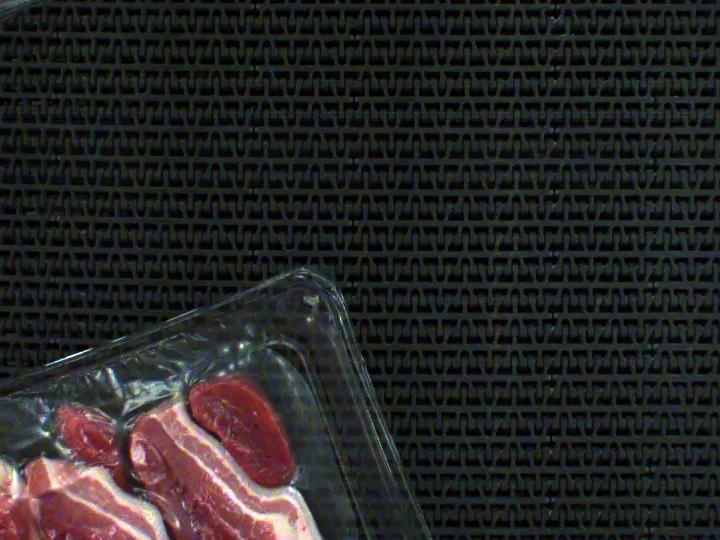unsealed: (0, 311, 306, 540)
